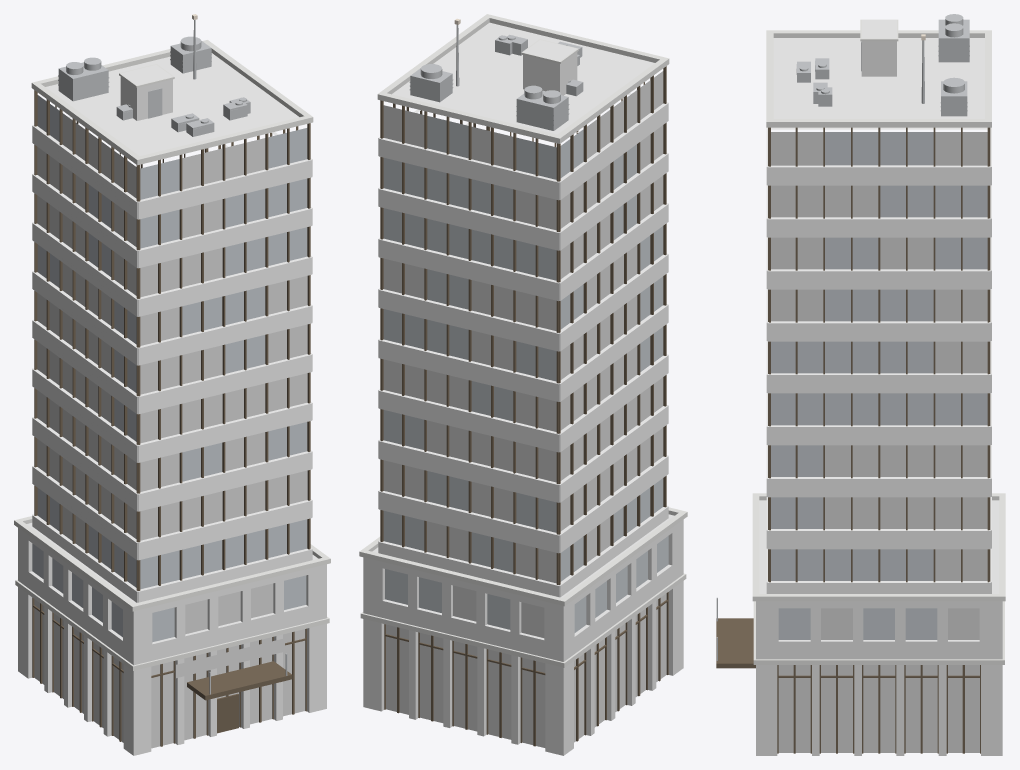
Rendered from tower_slim170n.glb.
The picture shows the model from 3 angles, left to right: view 1: azimuth 30°, elevation 25°; view 2: azimuth 150°, elevation 25°; view 3: azimuth 270°, elevation 25°; orthographic projection. The views are drawn at different scales.
Visible parts, largest first — view 1: tower_slim170n_WindowsLit, tower_slim170n_Walls, tower_slim170n_Glass, tower_slim170n_Walls2, tower_slim170n_Frames, tower_slim170n_Roof, tower_slim170n_Trim, tower_slim170n_Details, tower_slim170n_Accent, tower_slim170n_Brand; view 2: tower_slim170n_Walls, tower_slim170n_WindowsLit, tower_slim170n_Glass, tower_slim170n_Walls2, tower_slim170n_Frames, tower_slim170n_Trim, tower_slim170n_Roof, tower_slim170n_Details; view 3: tower_slim170n_WindowsLit, tower_slim170n_Walls, tower_slim170n_Glass, tower_slim170n_Walls2, tower_slim170n_Roof, tower_slim170n_Frames, tower_slim170n_Trim, tower_slim170n_Details, tower_slim170n_Accent.
Part boxes in pixels (<box>): tower_slim170n_WindowsLit: <box>34,113,307,748</box>; tower_slim170n_Walls: <box>32,116,312,602</box>; tower_slim170n_Glass: <box>32,95,307,642</box>; tower_slim170n_Walls2: <box>18,77,326,755</box>; tower_slim170n_Frames: <box>32,90,310,746</box>; tower_slim170n_Roof: <box>26,53,318,603</box>; tower_slim170n_Trim: <box>14,40,330,670</box>; tower_slim170n_Details: <box>58,20,287,694</box>; tower_slim170n_Accent: <box>187,661,292,700</box>; tower_slim170n_Brand: <box>176,638,284,678</box>; tower_slim170n_Walls: <box>378,93,668,597</box>; tower_slim170n_WindowsLit: <box>383,71,666,747</box>; tower_slim170n_Glass: <box>383,83,668,632</box>; tower_slim170n_Walls2: <box>363,52,683,755</box>; tower_slim170n_Frames: <box>380,66,668,746</box>; tower_slim170n_Trim: <box>359,14,687,667</box>; tower_slim170n_Roof: <box>372,22,674,597</box>; tower_slim170n_Details: <box>409,24,583,130</box>; tower_slim170n_WindowsLit: <box>771,132,987,752</box>; tower_slim170n_Walls: <box>766,127,991,593</box>; tower_slim170n_Glass: <box>771,132,987,639</box>; tower_slim170n_Walls2: <box>756,41,1002,755</box>; tower_slim170n_Roof: <box>759,20,999,593</box>; tower_slim170n_Frames: <box>768,127,990,753</box>; tower_slim170n_Trim: <box>752,19,1005,664</box>; tower_slim170n_Details: <box>716,14,969,660</box>; tower_slim170n_Accent: <box>716,618,755,668</box>.
Size of the model in its own units: 55.4 by 173 by 65.7.
